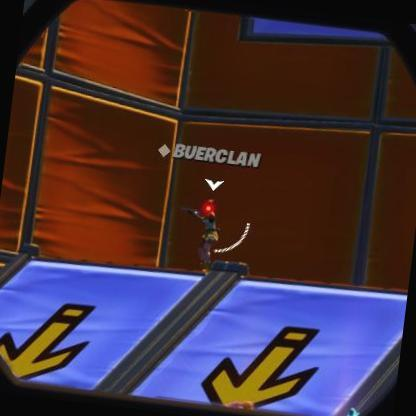Person: (185, 193, 227, 268)
